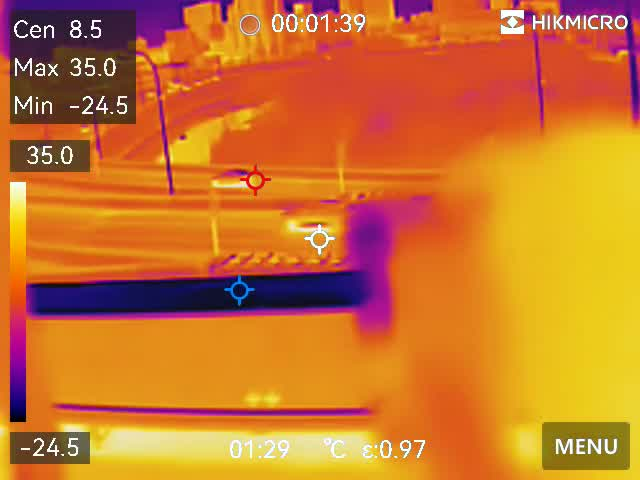heavyTruck: (25, 272, 409, 439)
vehicle: (207, 167, 261, 192)
